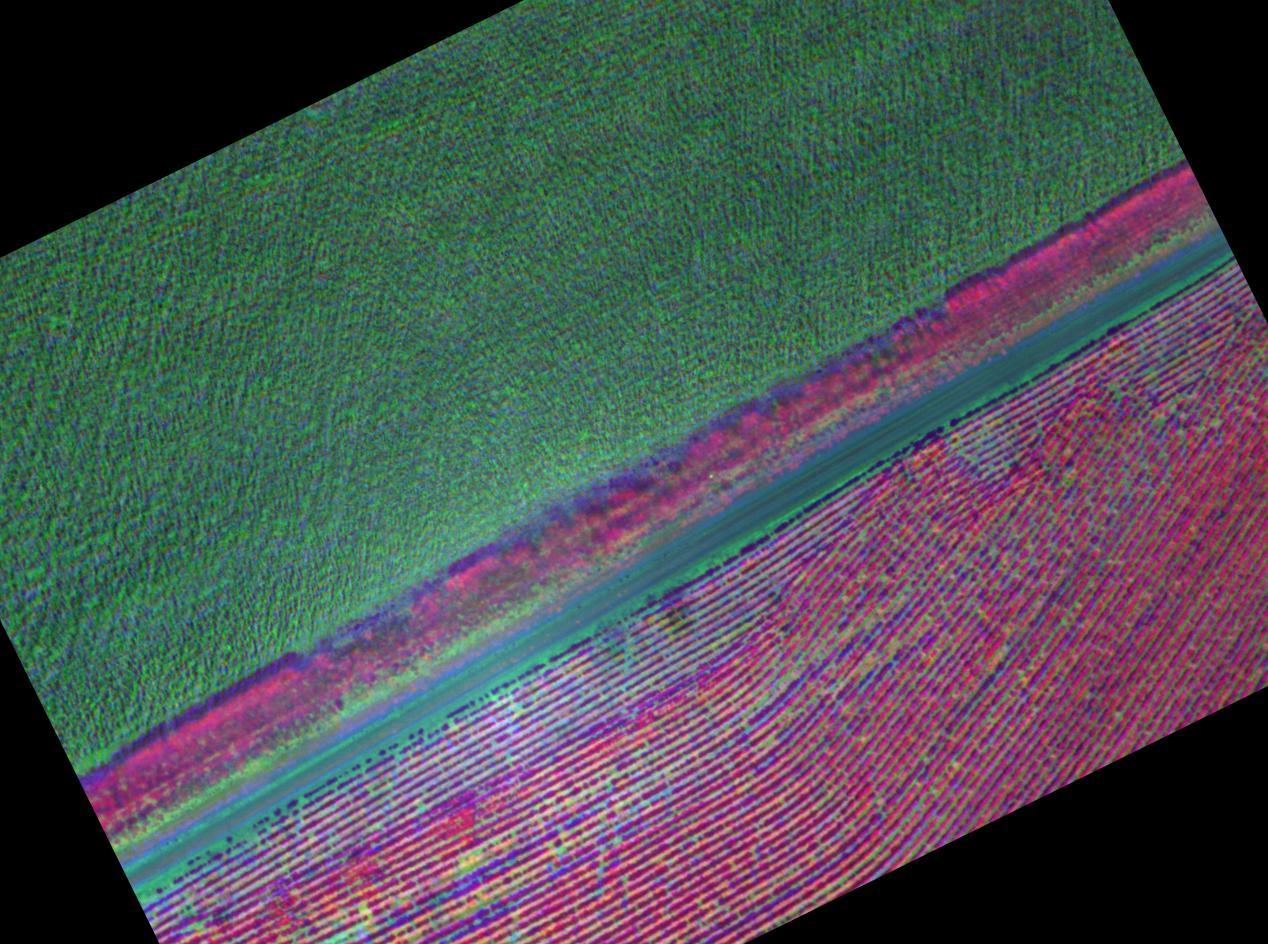dc: (444, 799, 567, 891), (312, 878, 439, 944), (634, 574, 728, 661)
